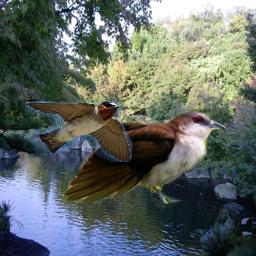Cuckoo: (62, 47, 229, 210)
Swallow: (25, 101, 132, 162)
